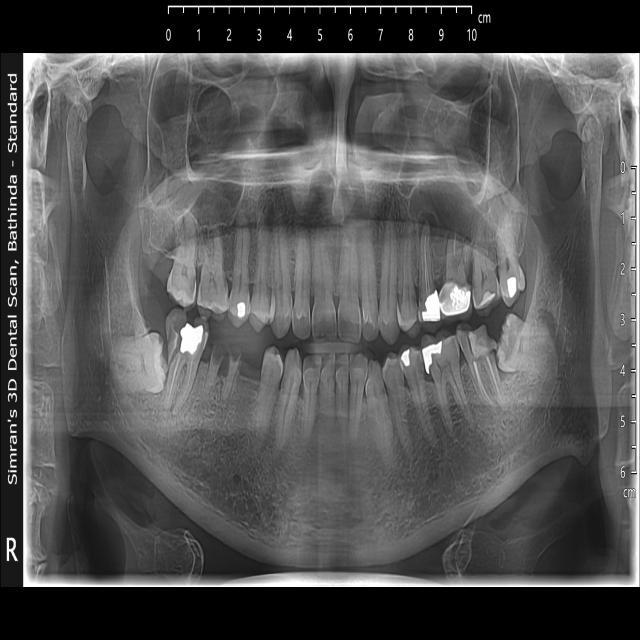Caries: (500, 320, 513, 361), (415, 354, 423, 382)
Crown: (439, 283, 470, 318)
Filling: (468, 325, 496, 361), (180, 323, 204, 357), (421, 288, 442, 323), (423, 339, 442, 374), (478, 289, 495, 309), (506, 275, 516, 298), (400, 350, 411, 370), (236, 300, 245, 319)
Mandibular Canal: (435, 243, 578, 486), (92, 263, 235, 491)
Missing teeth: (240, 342, 265, 386)
Periapical lesion: (417, 212, 438, 246)
Root Canal Treatment: (177, 352, 197, 406), (486, 353, 504, 408), (167, 353, 187, 401), (473, 357, 492, 407), (426, 232, 432, 295), (423, 230, 428, 298)
Root Piece: (205, 347, 224, 393), (224, 352, 241, 392)
impacted tooth: (111, 330, 167, 399), (495, 316, 555, 374)
maxillary sinus: (146, 54, 278, 226), (395, 50, 521, 203)
